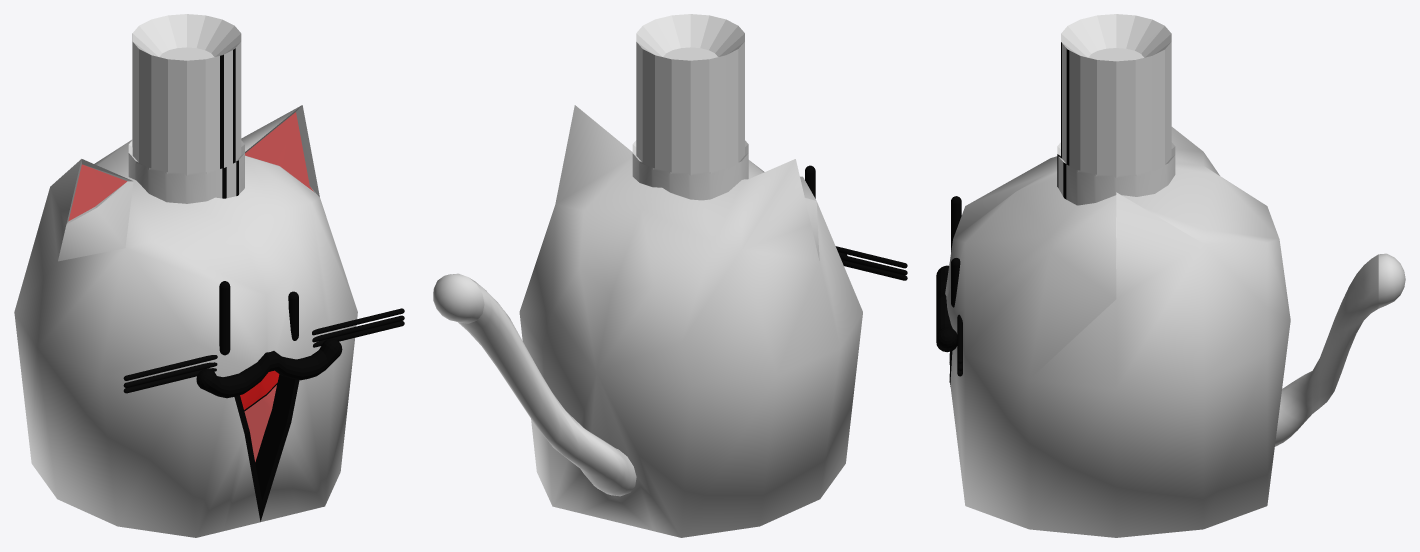
The model's file is Mochichi.fbx.
3 renders of one model, left to right at view 1: azimuth 30°, elevation 25°; view 2: azimuth 150°, elevation 25°; view 3: azimuth 270°, elevation 25°, orthographic.
Visible parts, largest first — view 1: body, Cylinder001, so (×4), eye R, so001, so002, eye l; view 2: body, Cylinder001, tail; view 3: body, Cylinder001, tail.
Part boxes in pixels (x1,y1,x2,y2): body: [14, 105, 357, 537]; Cylinder001: [128, 14, 244, 203]; so (×4): [123, 321, 404, 393]; eye R: [219, 281, 230, 355]; so001: [312, 308, 404, 335]; so002: [312, 315, 404, 342]; eye l: [288, 291, 298, 340]; body: [519, 105, 862, 537]; Cylinder001: [632, 14, 748, 200]; tail: [433, 273, 636, 496]; body: [936, 127, 1290, 537]; Cylinder001: [1057, 14, 1175, 205]; tail: [1275, 253, 1405, 446].
Bounding box in the file's own units: 63.71 × 88.02 × 85.72.
